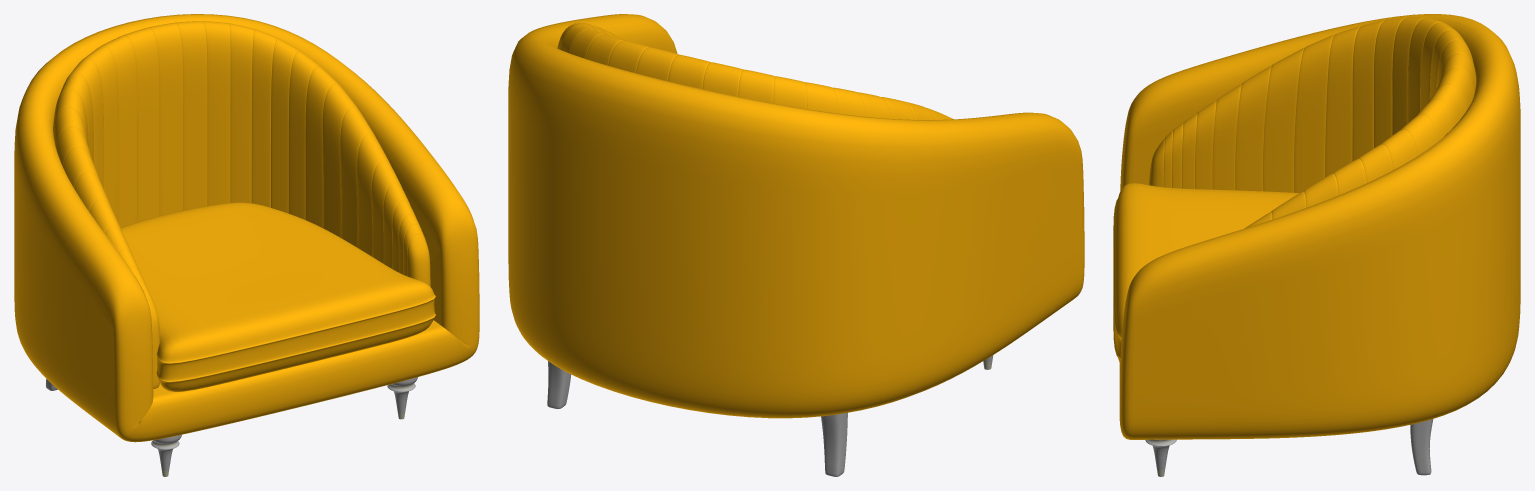
Rendered from silla.glb.
The picture shows the model from 3 angles, left to right: view 1: azimuth 30°, elevation 25°; view 2: azimuth 150°, elevation 25°; view 3: azimuth 270°, elevation 25°; orthographic projection. The views are drawn at different scales.
Parts seen in each view (by area): view 1: sofa-1seat.001; view 2: sofa-1seat.001; view 3: sofa-1seat.001.
Boxes of the visible parts, x1,y1,x2,y2 form: sofa-1seat.001: (14,14,479,476); sofa-1seat.001: (508,14,1084,476); sofa-1seat.001: (1113,14,1520,476).
Bounding box in the file's own units: 0.8846 × 0.7494 × 0.7716.
4 materials, 3 textured.
